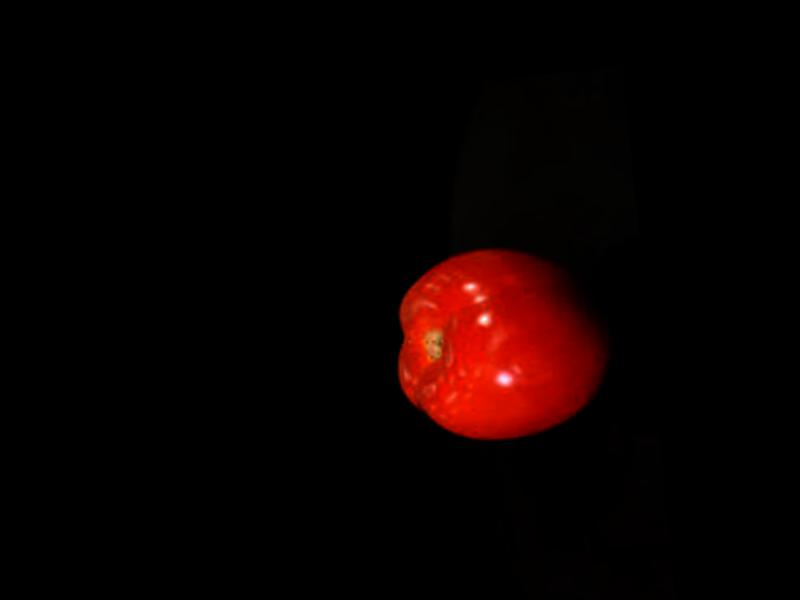Tomato: (385, 238, 616, 452)
